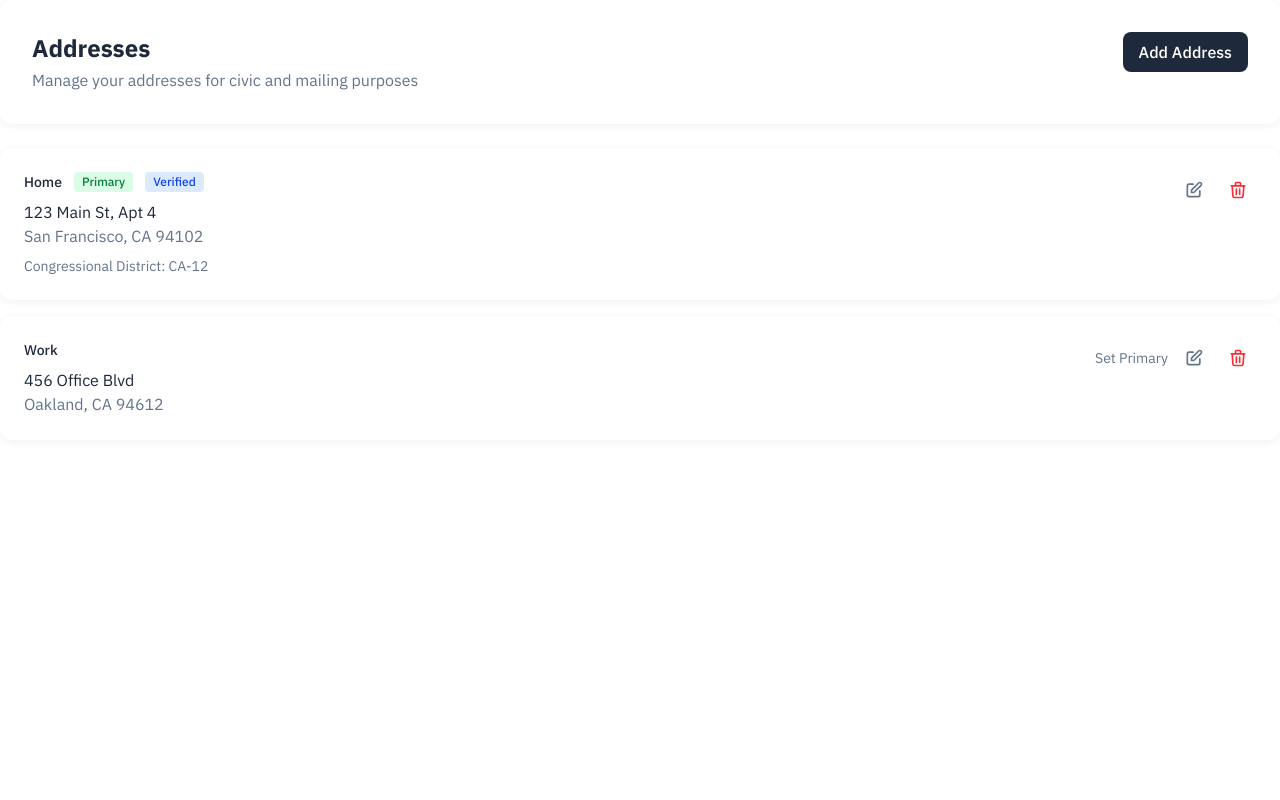
Test: AddressesPage › add address form › should hide form when Cancel is clicked
Step 1. Click the button "Add Address" → [1185, 52], box [1123, 32, 1248, 72]
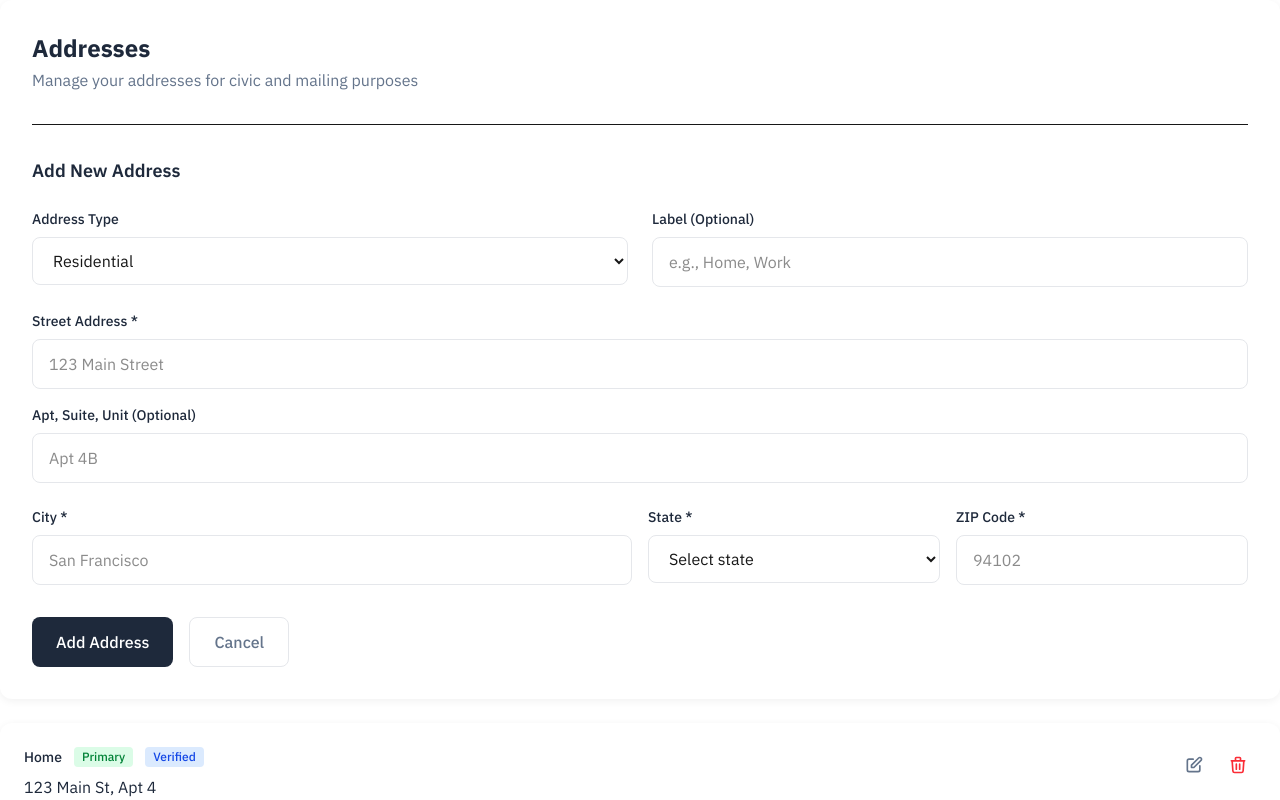
Step 2. Click the button "Cancel" → [239, 642], box [189, 617, 289, 667]
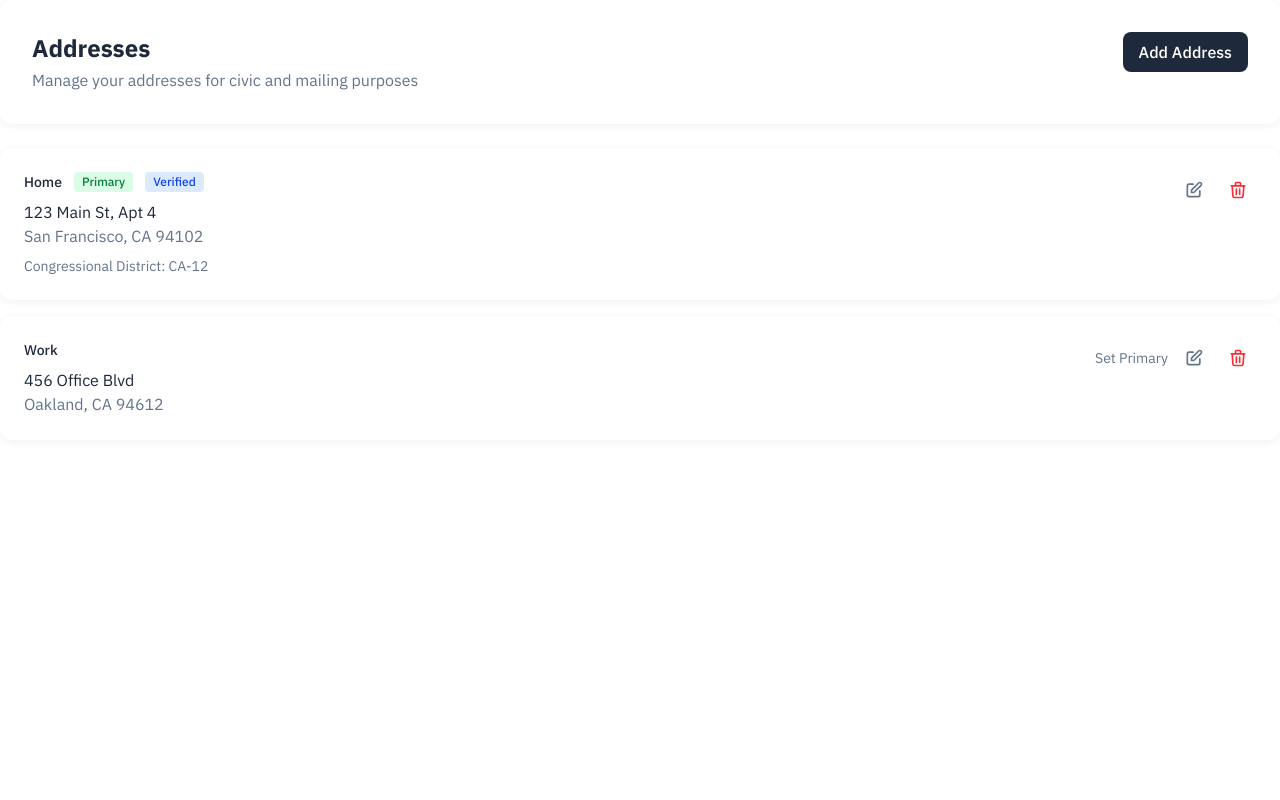
Result: the heading "Add New Address" is gone
